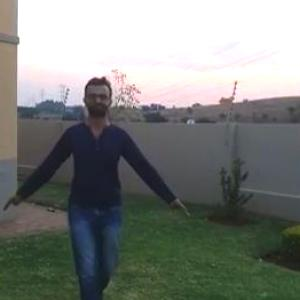land: (35, 98, 154, 299)
